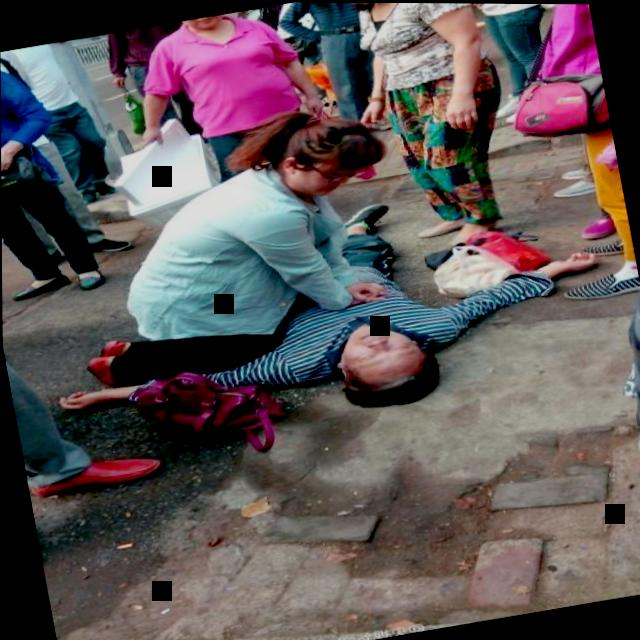Fall-Detected: (34, 178, 602, 453)
